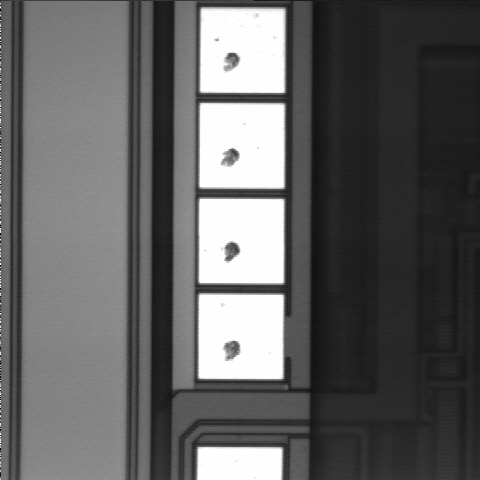pad: (200, 8, 285, 93), (200, 103, 284, 189), (199, 199, 284, 283), (199, 294, 283, 379)
